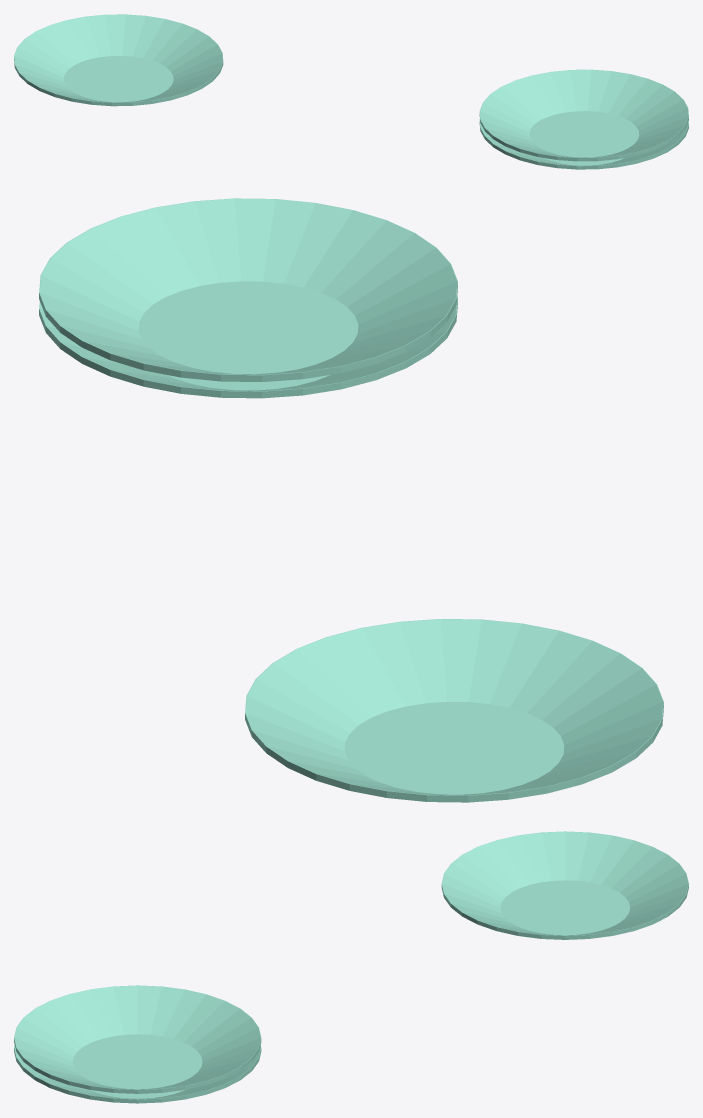
The model's file is plates.fbx.
3 views of the same model, one above another, from view 1: azimuth 30°, elevation 25°; view 2: azimuth 150°, elevation 25°; view 3: azimuth 270°, elevation 25° (orthographic). The views are drawn at different scales.
Visible parts, largest first — view 1: Cylinder.008; view 2: Cylinder.008; view 3: Cylinder.008.
Boxes of the visible parts, bbox=[...] form: Cylinder.008: bbox=[14, 14, 688, 169]; Cylinder.008: bbox=[39, 198, 663, 802]; Cylinder.008: bbox=[14, 831, 688, 1103].
Bounding box in the file's own units: 270 × 17.77 × 287.
